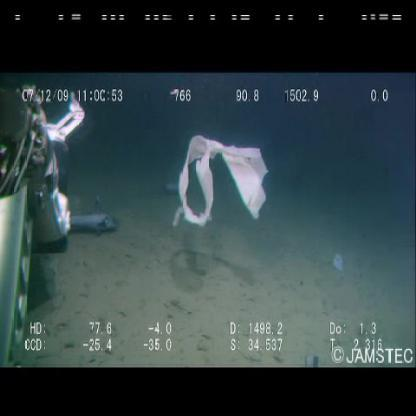Rác: (166, 128, 272, 239)
